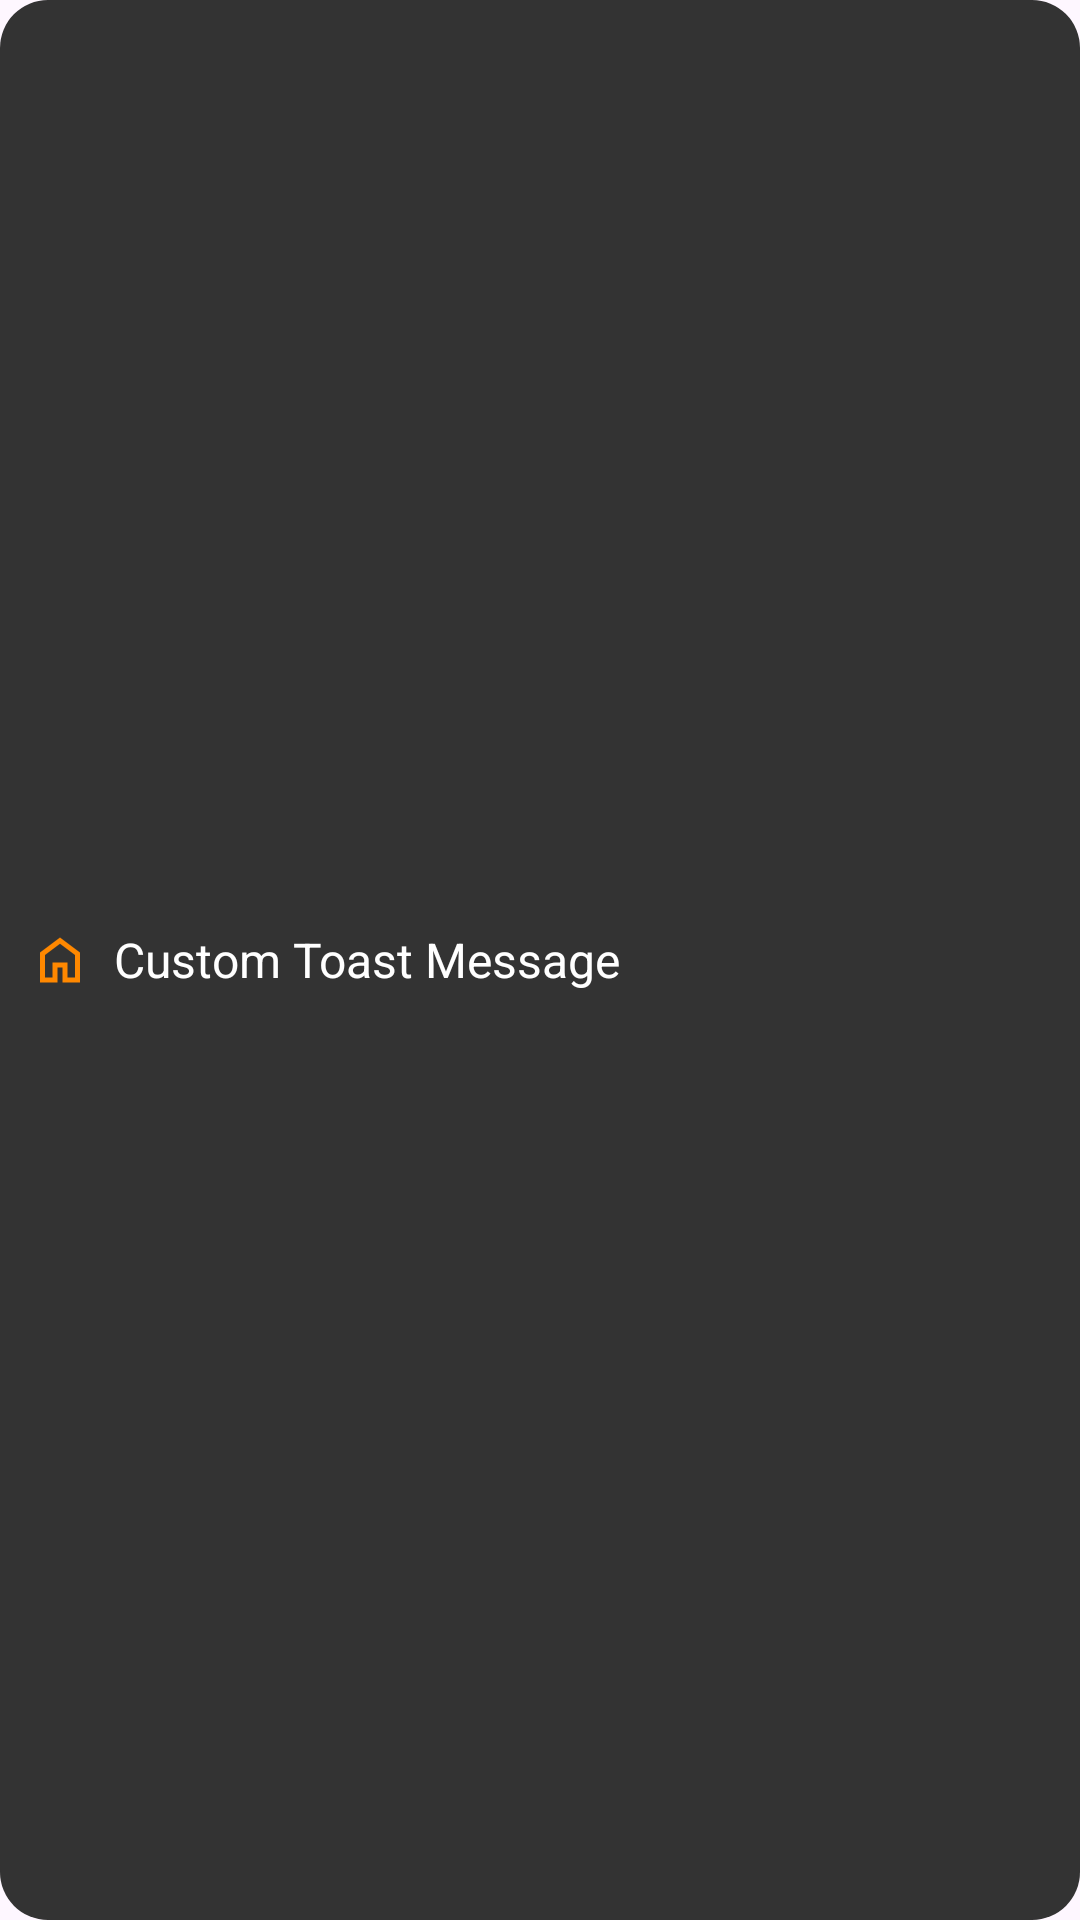

Point at icon controls on the screen. Image size 1080px x 1920px, points as (x,y).
home: (60,960)
